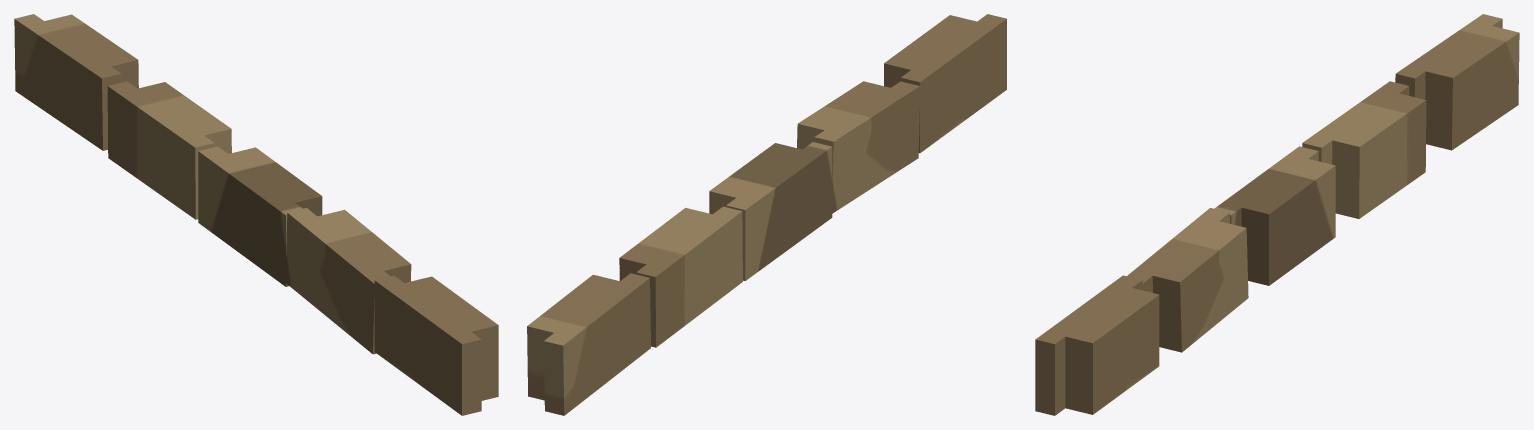
Rendered from SM_Veh_Attach_Tank_Armour_09.fbx.
The picture shows the model from 3 angles, left to right: view 1: azimuth 30°, elevation 25°; view 2: azimuth 150°, elevation 25°; view 3: azimuth 330°, elevation 25°; orthographic projection.
Parts seen in each view (by area): view 1: SM_Veh_Attach_Tank_Armour_09; view 2: SM_Veh_Attach_Tank_Armour_09; view 3: SM_Veh_Attach_Tank_Armour_09.
Part boxes in pixels (x1=…): SM_Veh_Attach_Tank_Armour_09: x1=14, y1=14, x2=498, y2=415; SM_Veh_Attach_Tank_Armour_09: x1=527, y1=14, x2=1006, y2=415; SM_Veh_Attach_Tank_Armour_09: x1=1035, y1=14, x2=1519, y2=415.
Bounding box in the file's own units: 11.1 × 17.91 × 183.
